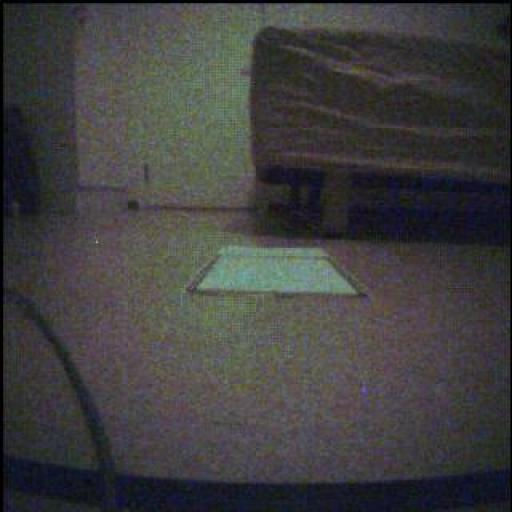pad: (188, 247, 363, 297)
